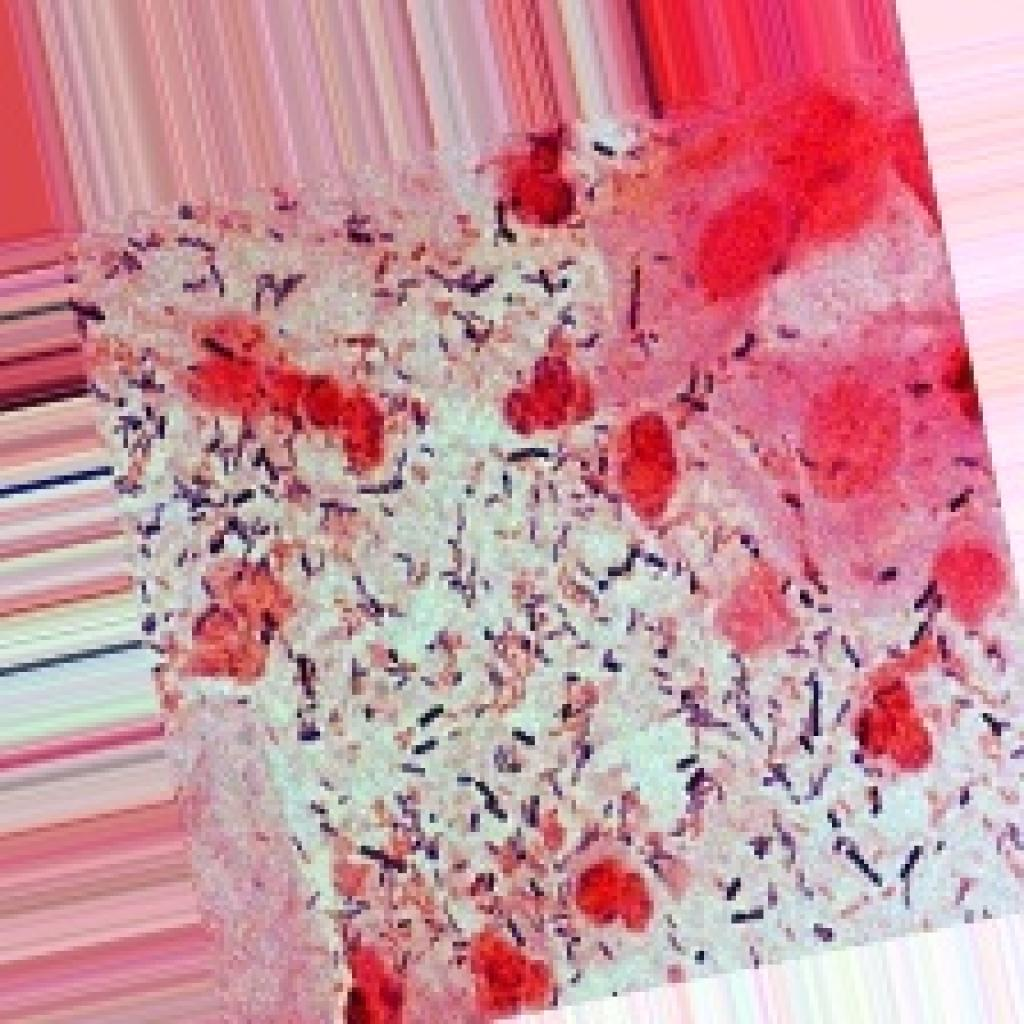Rodbacteria: (60, 73, 1020, 1020)
